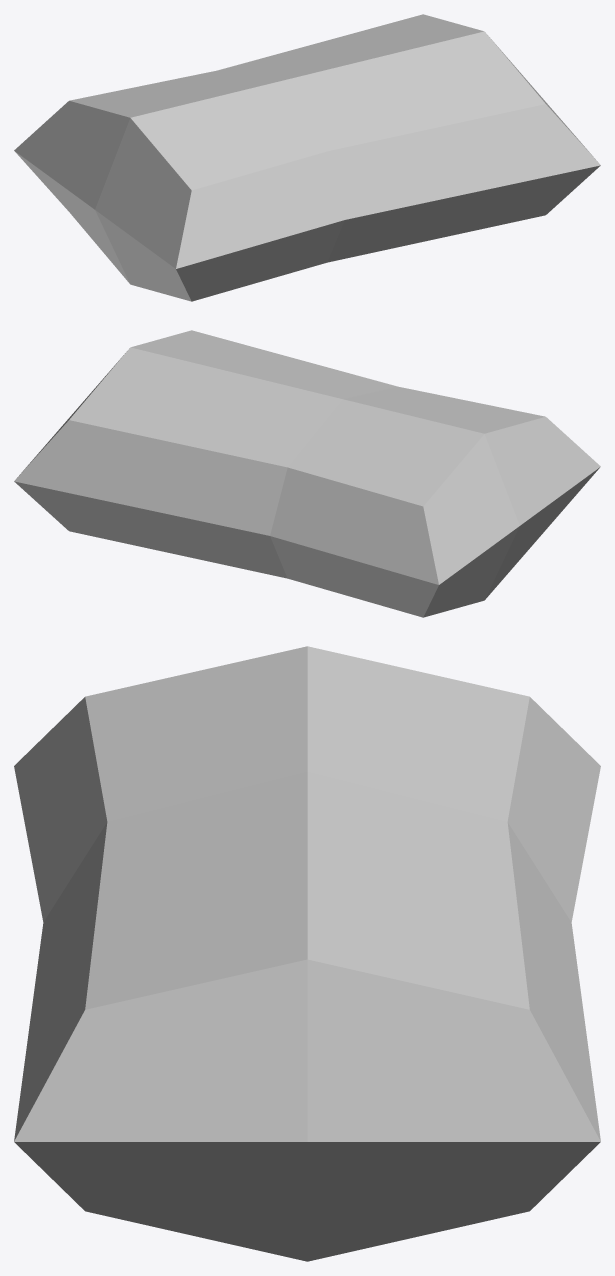
Rendered from Millet Sack 1.fbx.
3 renders of one model, top to bottom at view 1: azimuth 30°, elevation 25°; view 2: azimuth 150°, elevation 25°; view 3: azimuth 270°, elevation 25°, orthographic. The views are drawn at different scales.
Visible parts, largest first — view 1: Millet_sack_1; view 2: Millet_sack_1; view 3: Millet_sack_1.
Part boxes in pixels (bbox=[...]): Millet_sack_1: bbox=[14, 14, 600, 301]; Millet_sack_1: bbox=[14, 330, 600, 617]; Millet_sack_1: bbox=[14, 646, 600, 1261].
Size of the model in its own units: 0.2756 by 0.1033 by 0.1819.
